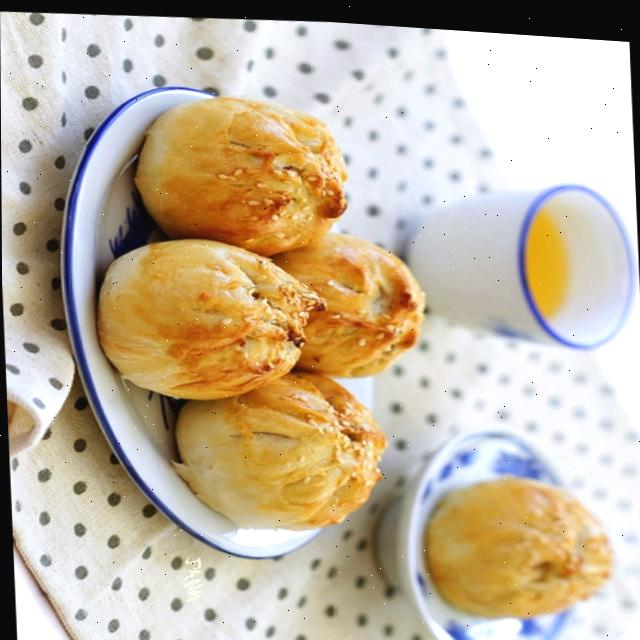带馅早点: (47, 27, 640, 640)
